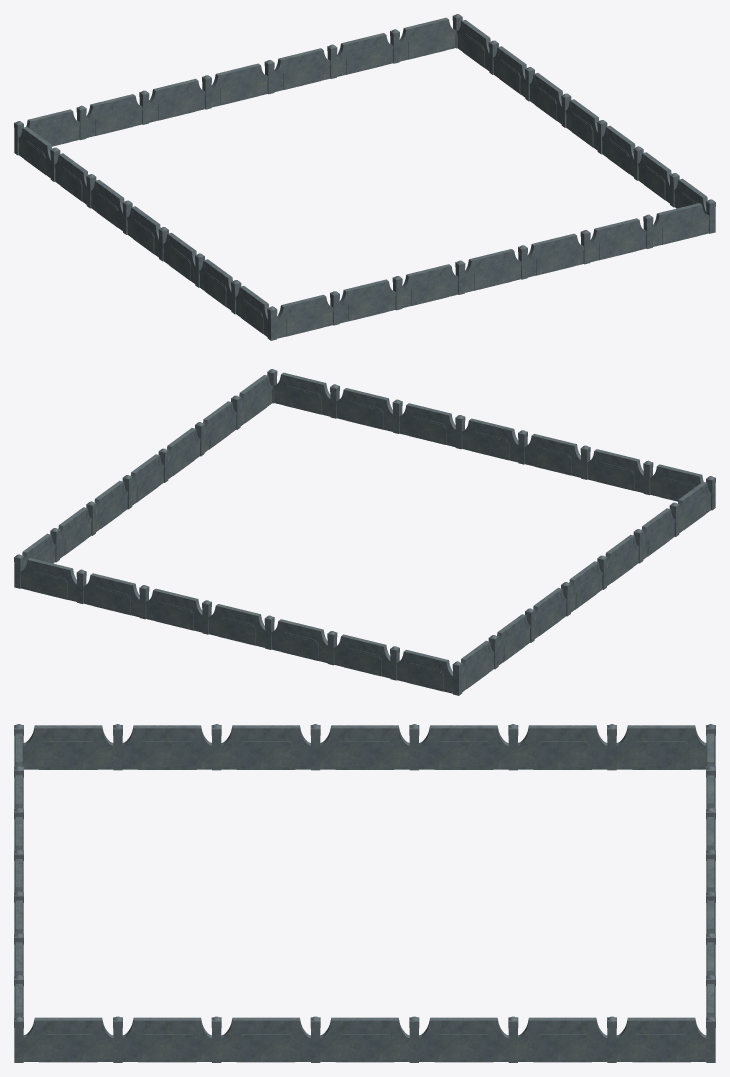
File: Center_Rail.FBX
3 renders of one model, top to bottom at view 1: azimuth 30°, elevation 25°; view 2: azimuth 150°, elevation 25°; view 3: azimuth 270°, elevation 25°, orthographic. The views are drawn at different scales.
Parts seen in each view (by area): view 1: Center_Rail_LOD0; view 2: Center_Rail_LOD0; view 3: Center_Rail_LOD0.
Boxes of the visible parts, x1=… form: Center_Rail_LOD0: x1=14, y1=14, x2=715, y2=340; Center_Rail_LOD0: x1=14, y1=369, x2=715, y2=695; Center_Rail_LOD0: x1=14, y1=724, x2=715, y2=1062.
Size of what is drawn, in the model's own units: 503 by 34.71 by 503.
